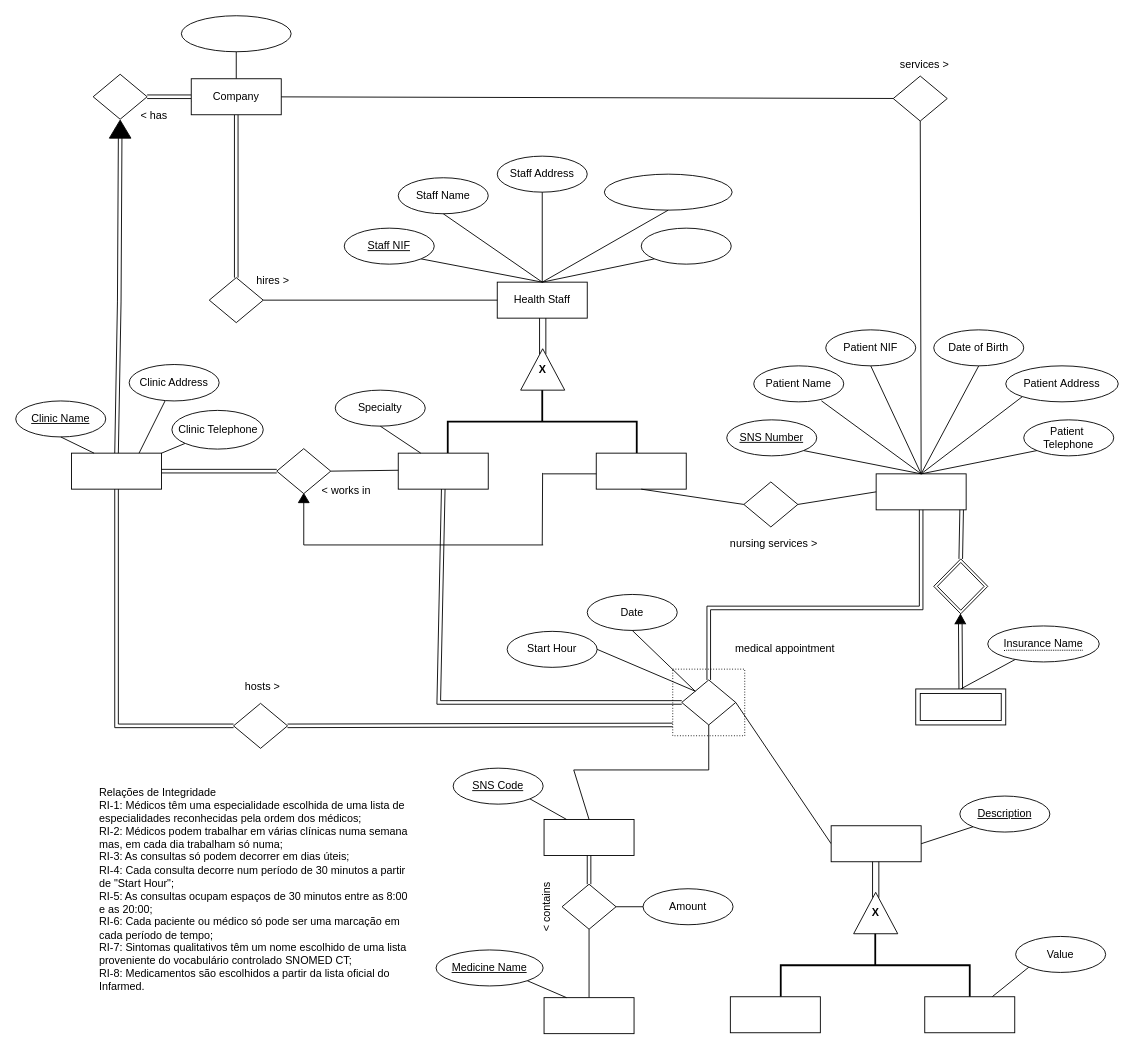
Some shapes in this 1134 by 1060 pixel diagram are drawn without their labels. The shapes that lost their labels are listed below. From the top down, each one's box as (x1, y1, x2, y2) in pixels, then its label:
(180, 15, 291, 52): Company Name
(603, 173, 732, 210): Staff Telephone
(640, 227, 731, 264): IBAN
(71, 452, 162, 489): Clinic
(397, 452, 488, 489): Doctor
(595, 452, 686, 489): Nurse
(875, 473, 966, 510): Patient
(915, 688, 1006, 725): Health insurance
(543, 819, 634, 855): Prescription
(830, 825, 921, 862): Symptom
(543, 997, 634, 1034): Medicine
(729, 996, 820, 1033): Qualitative
(924, 996, 1015, 1033): Quantitative
